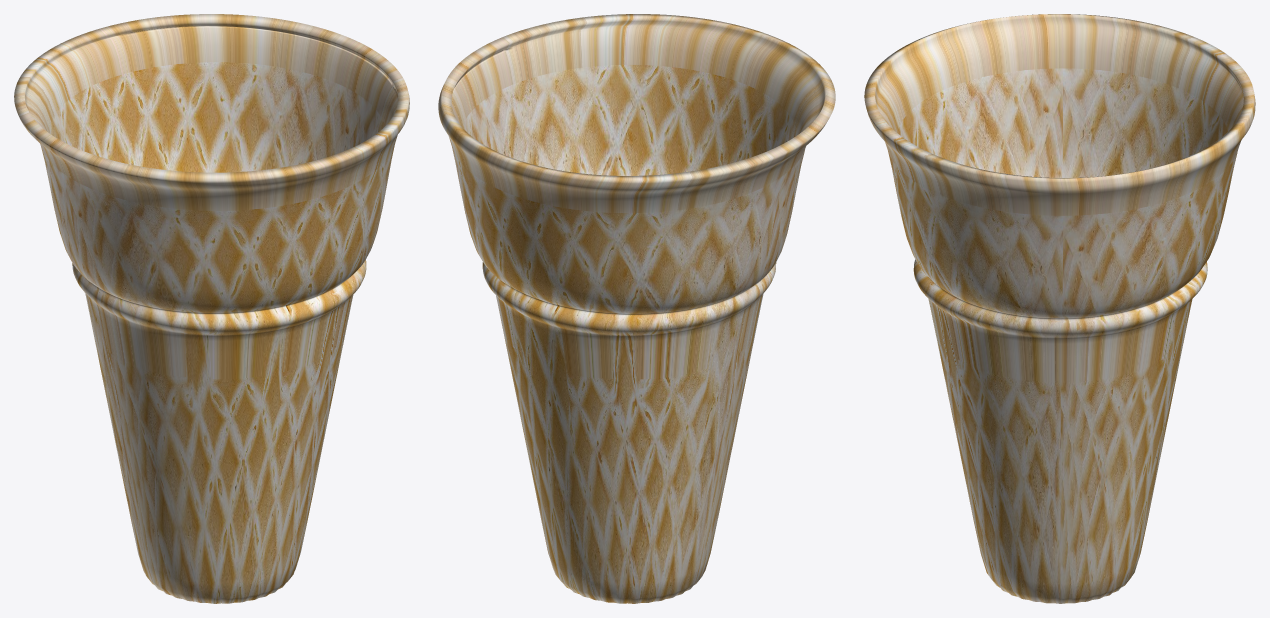
The model's file is icecream_cone.fbx.
3 renders of one model, left to right at view 1: azimuth 30°, elevation 25°; view 2: azimuth 150°, elevation 25°; view 3: azimuth 270°, elevation 25°, orthographic.
Parts seen in each view (by area): view 1: Cylinder; view 2: Cylinder; view 3: Cylinder.
Part boxes in pixels (x1,y1,x2,y2): Cylinder: (14,14,409,603); Cylinder: (438,14,835,603); Cylinder: (864,14,1255,603).
Bounding box in the file's own units: 130 × 177 × 130.
